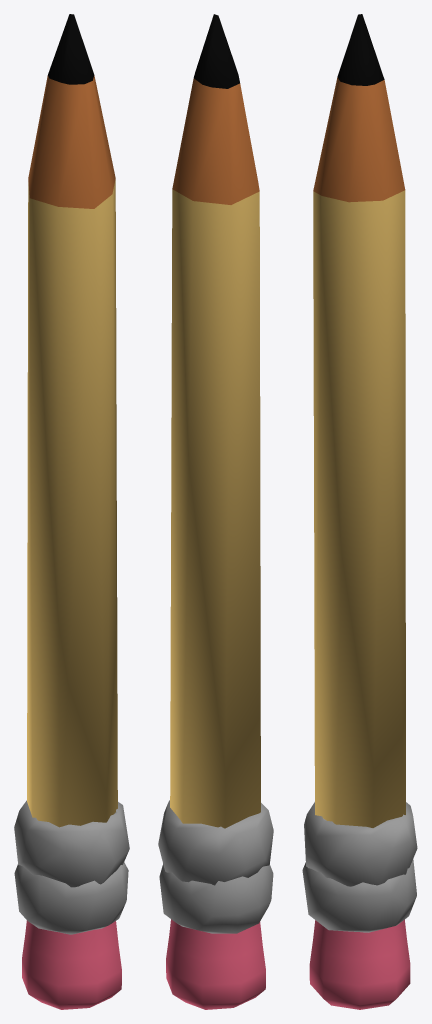
Rendered from Pencil.glb.
3 views of the same model, side by side, from view 1: azimuth 30°, elevation 25°; view 2: azimuth 210°, elevation 25°; view 3: azimuth 270°, elevation 25° (orthographic).
Parts seen in each view (by area): view 1: PencilModel; view 2: PencilModel; view 3: PencilModel.
Boxes of the visible parts, <box> form: PencilModel: <box>14,14,129,1009</box>; PencilModel: <box>158,14,273,1009</box>; PencilModel: <box>302,14,417,1009</box>.
Size of the model in its own units: 1.31 by 12.42 by 1.32.
